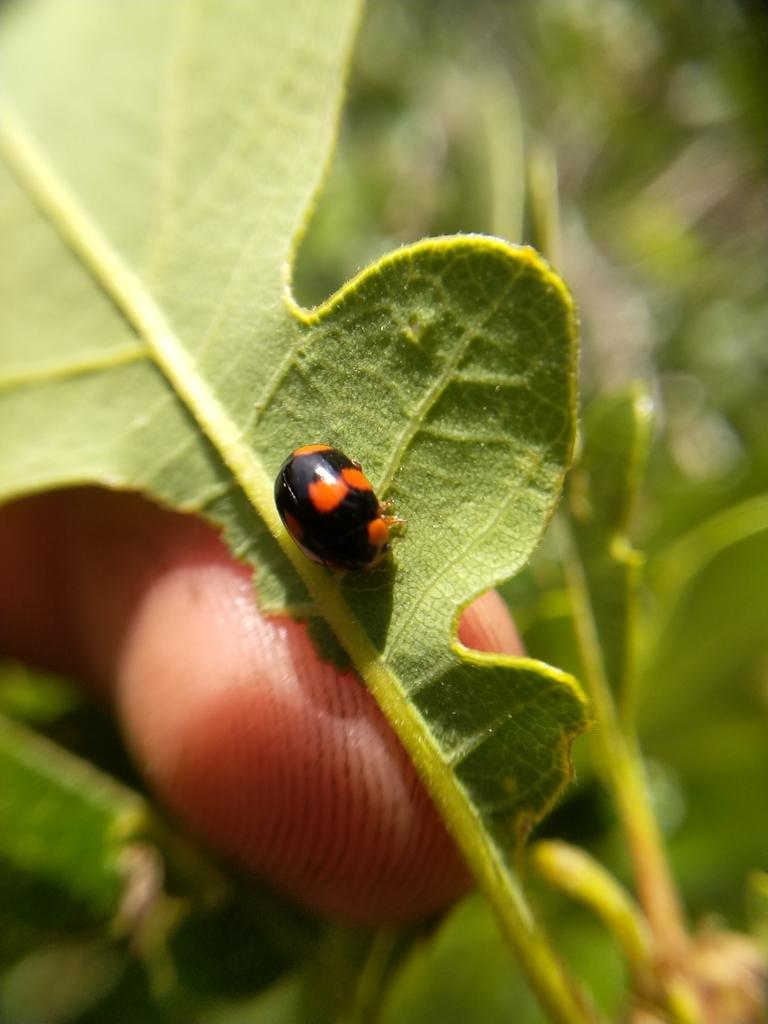ladybug: (271, 441, 409, 574)
